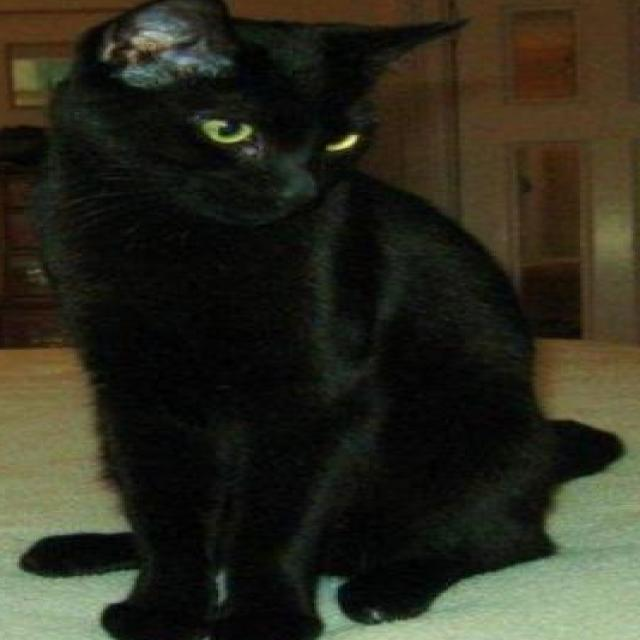Bombay: (14, 0, 626, 640)
